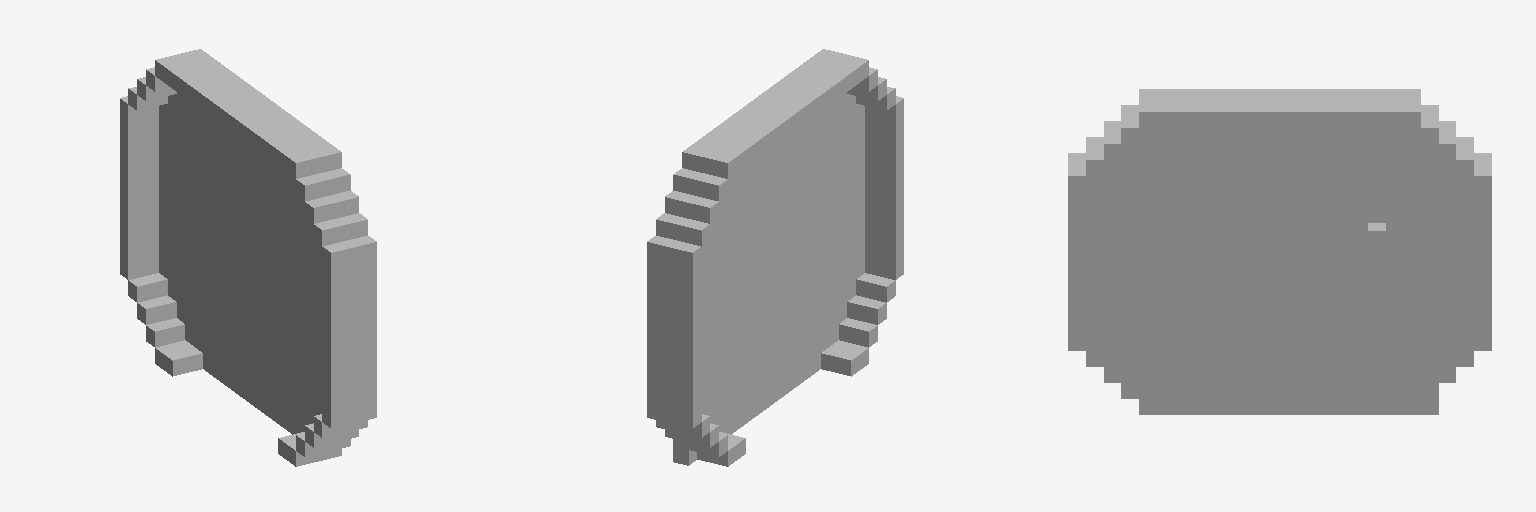
The model's file is lab enter portal.obj.
3 renders of one model, left to right at view 1: azimuth 30°, elevation 25°; view 2: azimuth 150°, elevation 25°; view 3: azimuth 270°, elevation 25°, orthographic.
Parts seen in each view (by area): view 1: object 1; view 2: object 1; view 3: object 1.
Boxes of the visible parts, x1=… form: object 1: x1=120, y1=49, x2=376, y2=466; object 1: x1=647, y1=49, x2=903, y2=466; object 1: x1=1068, y1=89, x2=1491, y2=414.
Bounding box in the file's own units: 0.4 × 1.9 × 2.4.